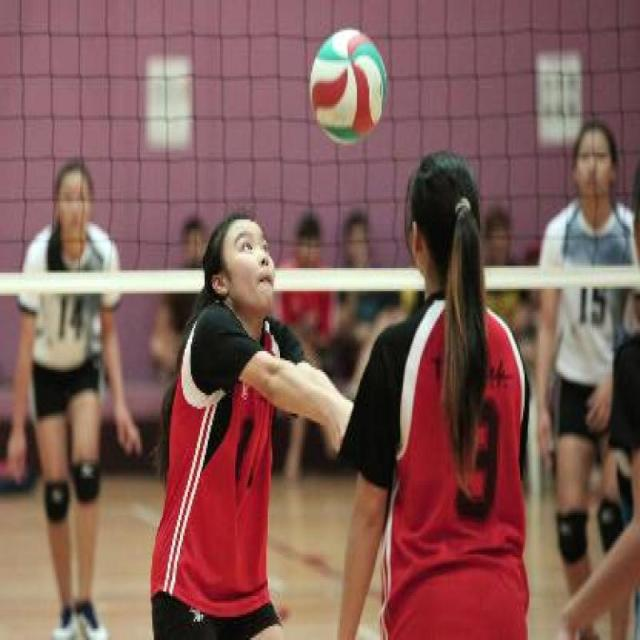volleyball: (310, 26, 384, 148)
